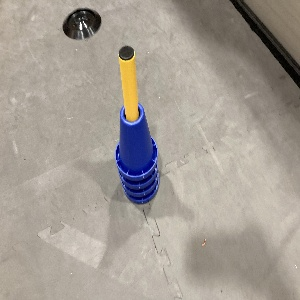Blue_4: (112, 102, 162, 206)
